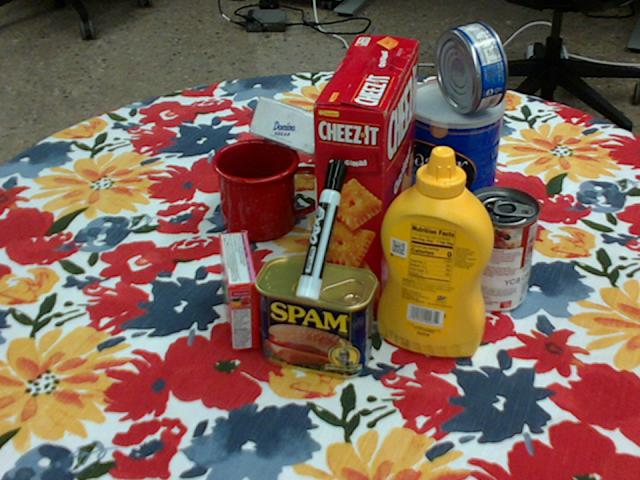cracker_box: (312, 35, 420, 315)
gelatin_box: (220, 230, 259, 349)
large_marker: (296, 157, 346, 300)
master_chef_can: (401, 79, 503, 240)
mug: (213, 139, 325, 242)
mustard_bottle: (377, 145, 494, 357)
potted_meat_can: (255, 255, 378, 378)
sugar_box: (251, 97, 401, 182)
tomato_soup_can: (458, 187, 539, 313)
tuna_fish_can: (433, 22, 507, 113)
